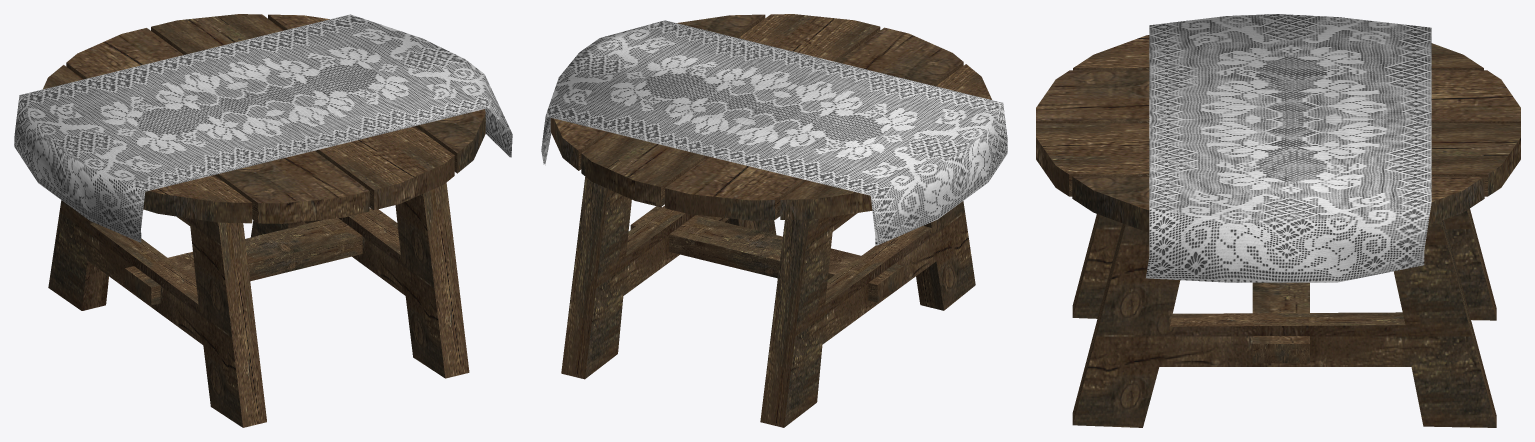
File: TableSmall1.obj
The picture shows the model from 3 angles, left to right: view 1: azimuth 30°, elevation 25°; view 2: azimuth 150°, elevation 25°; view 3: azimuth 270°, elevation 25°; orthographic projection. The views are drawn at different scales.
Parts seen in each view (by area): view 1: Plane01, Box03, Line02, Line01, Box18, Plane02; view 2: Plane01, Box03, Line02, Line01, Box18, Plane02; view 3: Plane01, Line01, Box03, Line02, Box18.
Boxes of the visible parts, x1,y1,x2,y2 form: Plane01: (14, 14, 512, 242); Box03: (43, 14, 485, 223); Line02: (48, 200, 266, 427); Line01: (250, 183, 469, 378); Box18: (125, 208, 397, 305); Plane02: (140, 107, 511, 241); Plane01: (541, 20, 1007, 245); Box03: (550, 14, 991, 220); Line02: (760, 201, 975, 427); Line01: (561, 177, 776, 379); Box18: (630, 206, 903, 302); Plane02: (542, 116, 876, 245); Plane01: (1146, 14, 1431, 282); Line01: (1072, 220, 1496, 427); Box03: (1036, 35, 1520, 232); Line02: (1072, 208, 1496, 320); Box18: (1252, 282, 1309, 363).
Size of the model in its own units: 0.8236 by 0.4541 by 0.8015.
2 materials, 2 textured.
